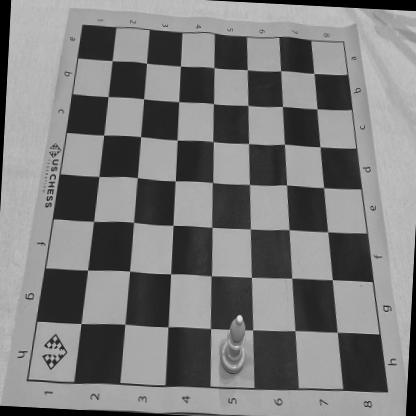white-bishop: (219, 314, 247, 376)
